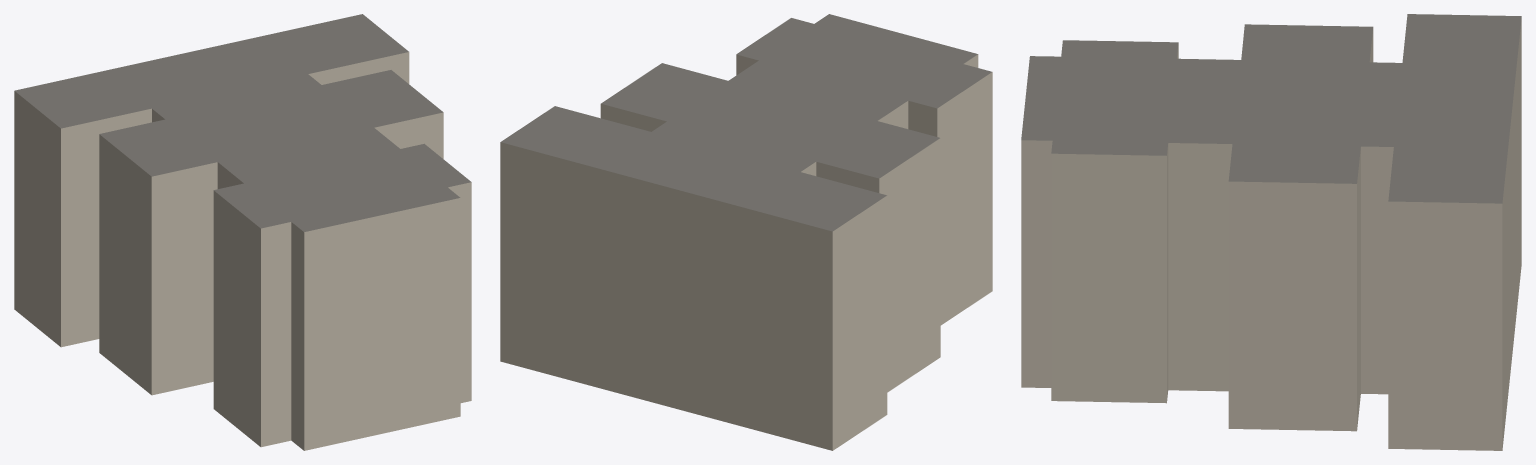
3 views of the same model, side by side, from view 1: azimuth 30°, elevation 25°; view 2: azimuth 150°, elevation 25°; view 3: azimuth 270°, elevation 25° (orthographic). The views are drawn at different scales.
Visible parts, largest first — view 1: HP-w859488839; view 2: HP-w859488839; view 3: HP-w859488839.
Part boxes in pixels (left/top/right/bottom): HP-w859488839: left=14, top=14, right=471, bottom=450; HP-w859488839: left=500, top=14, right=992, bottom=450; HP-w859488839: left=1021, top=14, right=1521, bottom=450.
Size of the model in its own units: 29.6 by 18 by 33.02.
